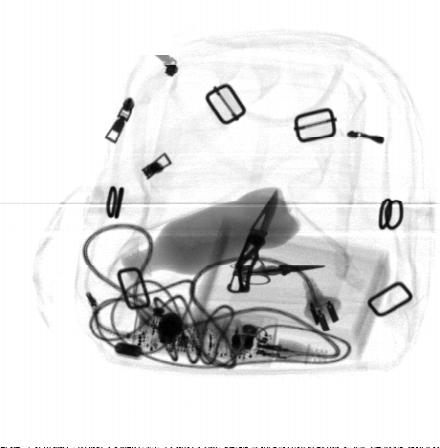Knife: (226, 189, 278, 293)
Scissors: (232, 253, 325, 288)
